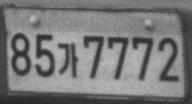2: (156, 37, 180, 83)
5: (34, 33, 54, 77)
7: (131, 36, 154, 82), (106, 35, 129, 80), (82, 34, 104, 80)
8: (9, 32, 31, 77)
가: (56, 42, 80, 79)
